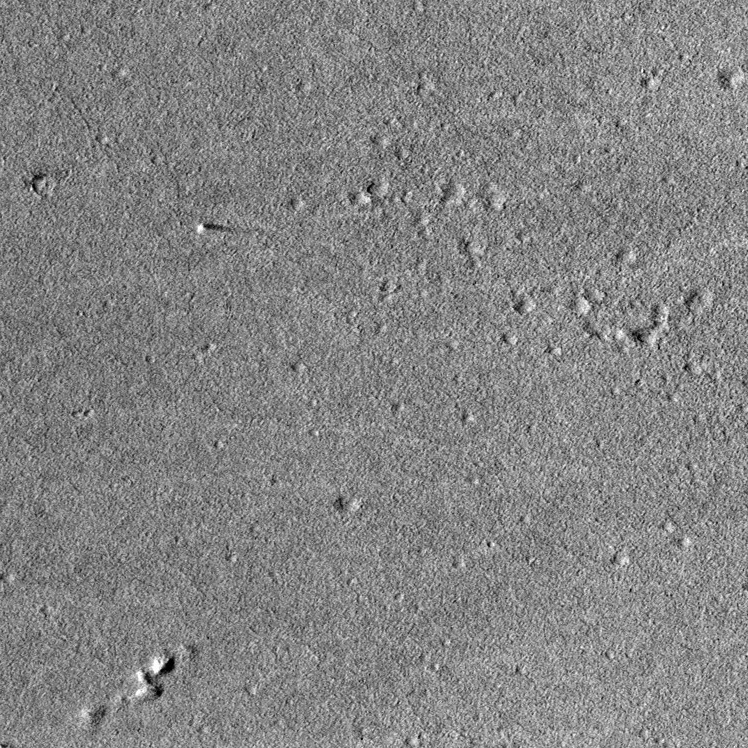dust_devil: (195, 222, 233, 236)
